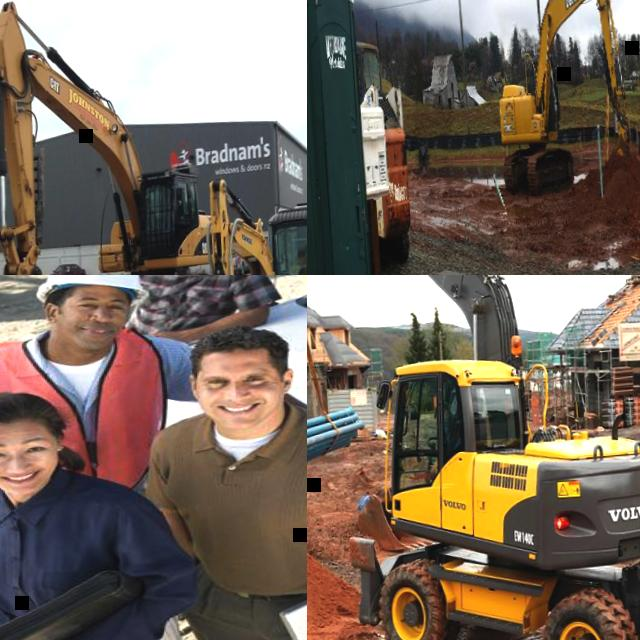Hardhat: (34, 275, 151, 313)
NO-Hardhat: (178, 326, 290, 364), (0, 390, 61, 434)
NO-Mask: (47, 314, 121, 357), (202, 391, 277, 430), (0, 457, 56, 499)
NO-Safety Vest: (149, 417, 307, 604), (0, 478, 154, 640), (129, 275, 246, 343)
Person: (125, 317, 307, 640), (0, 378, 207, 640), (0, 275, 207, 512), (118, 275, 282, 345), (424, 399, 462, 480), (293, 244, 307, 275)
Safety Vest: (0, 329, 170, 494), (442, 412, 460, 446)
vehicle: (307, 275, 640, 640), (124, 275, 307, 615), (0, 0, 223, 275), (487, 0, 640, 203), (353, 38, 416, 272), (174, 171, 307, 275), (46, 260, 86, 275)
